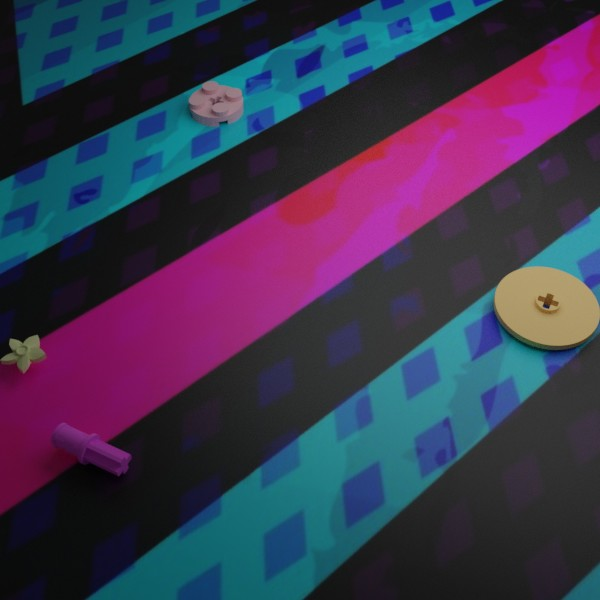lego: (493, 266, 600, 349), (50, 422, 131, 476), (188, 81, 243, 126), (0, 334, 46, 373)
